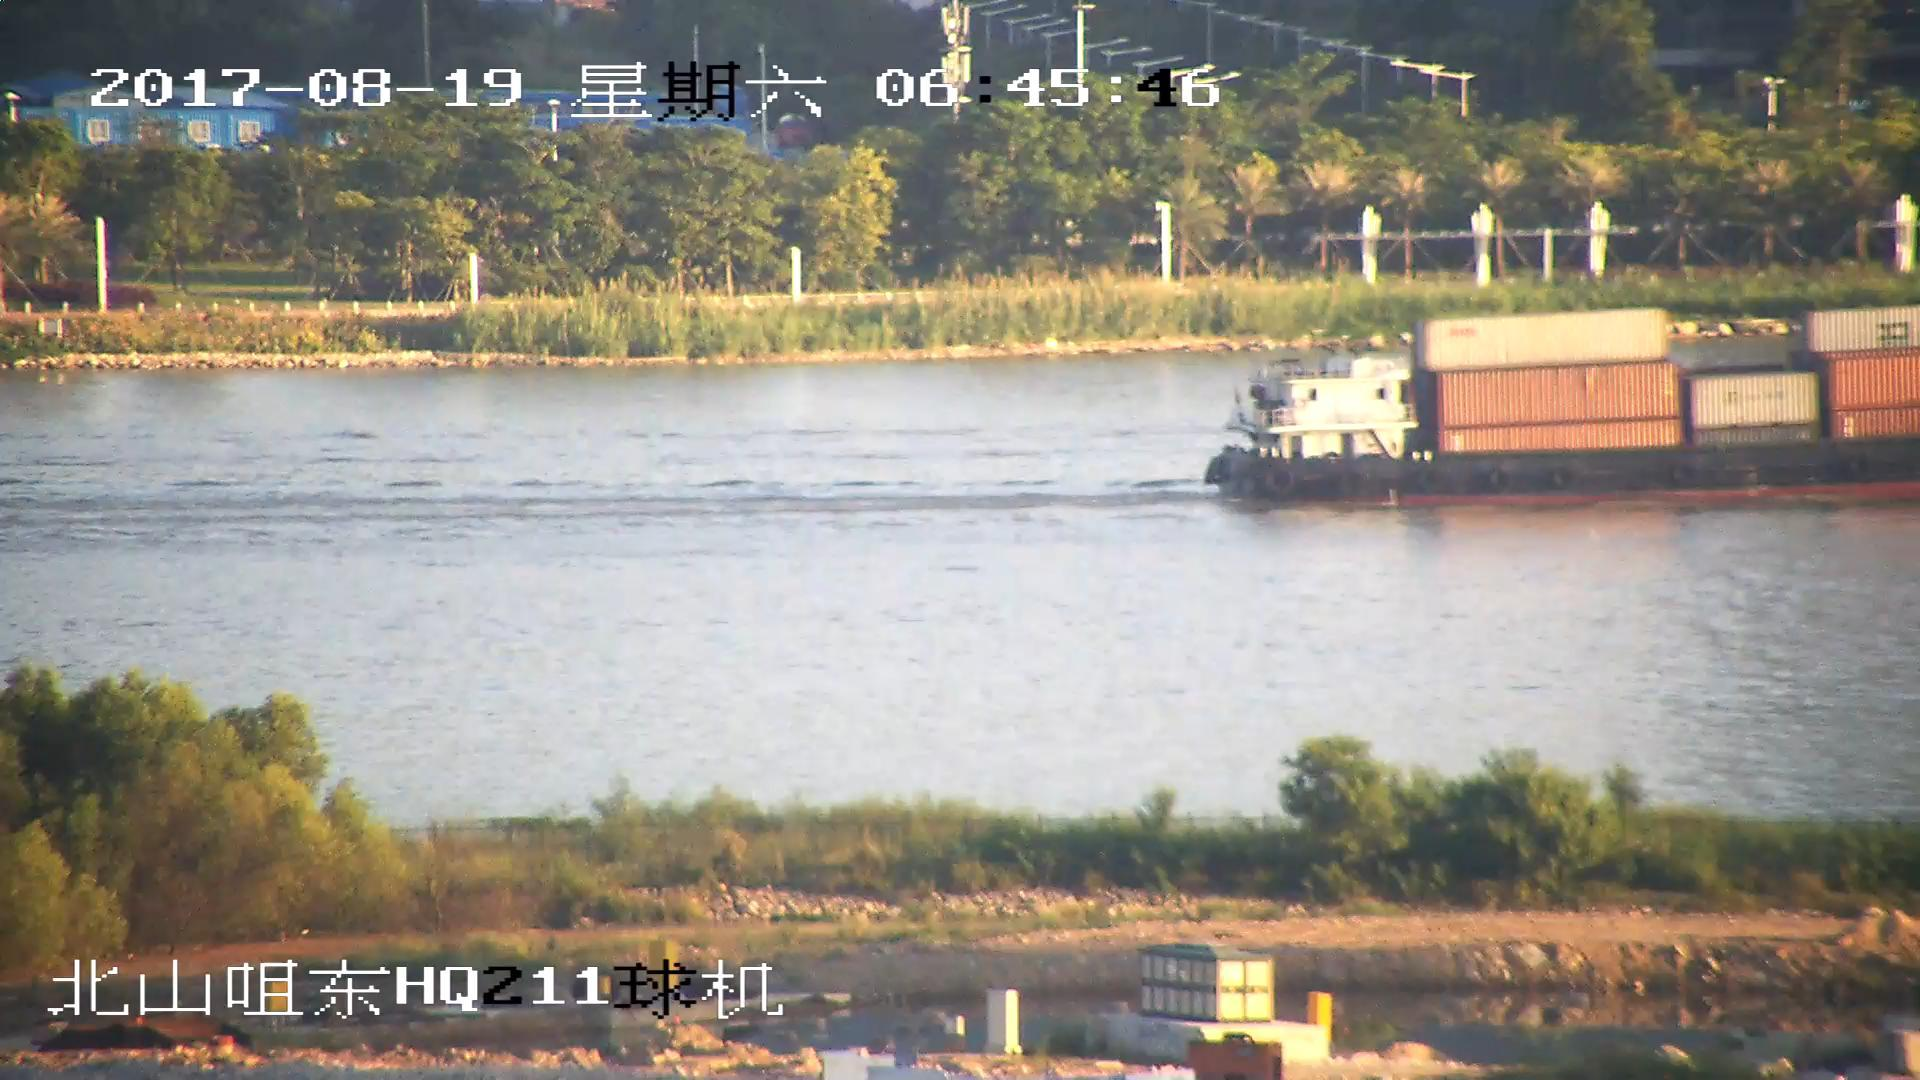Ship: (1200, 305, 1920, 510)
